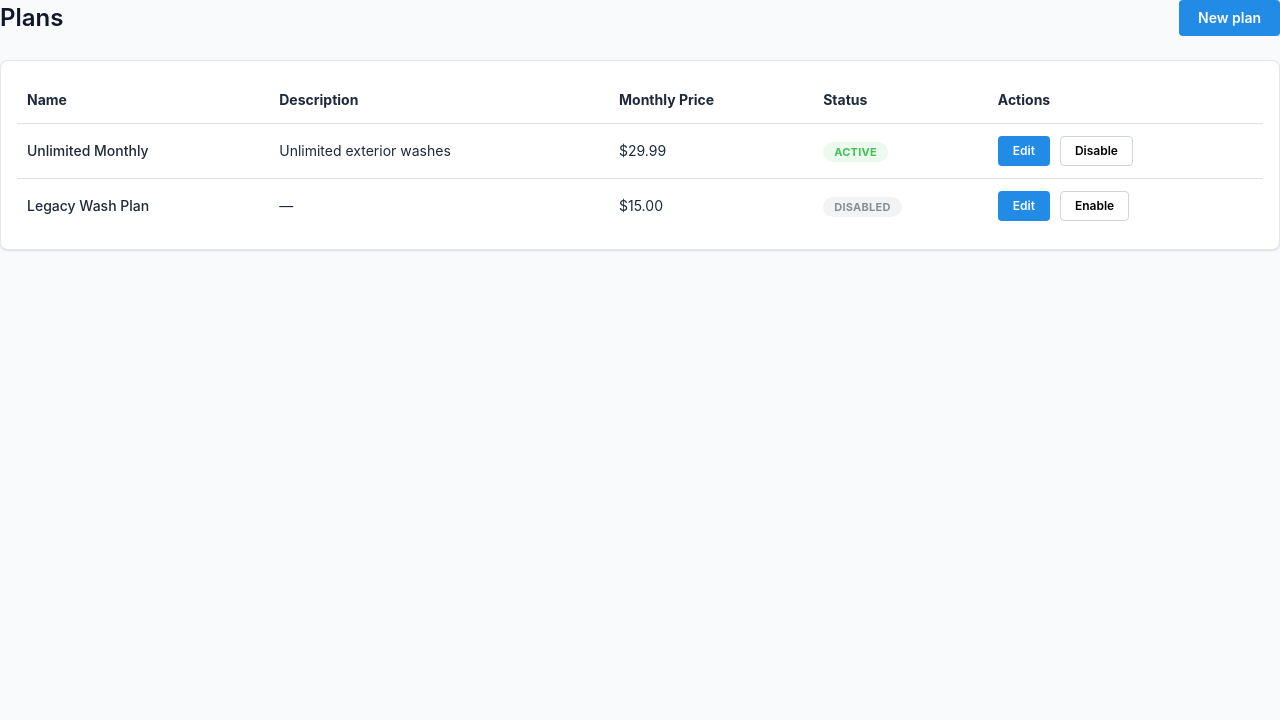
Test: PlansEditor › editing a plan › opens the form pre-filled with the plan, showing the price in dollars
Expected: the text "Unlimited Monthly" is shown, x1=17 y1=123 x2=269 y2=178
Click the button with aria-label "Edit Unlimited Monthly": (1024, 151) x1=998 y1=136 x2=1050 y2=166
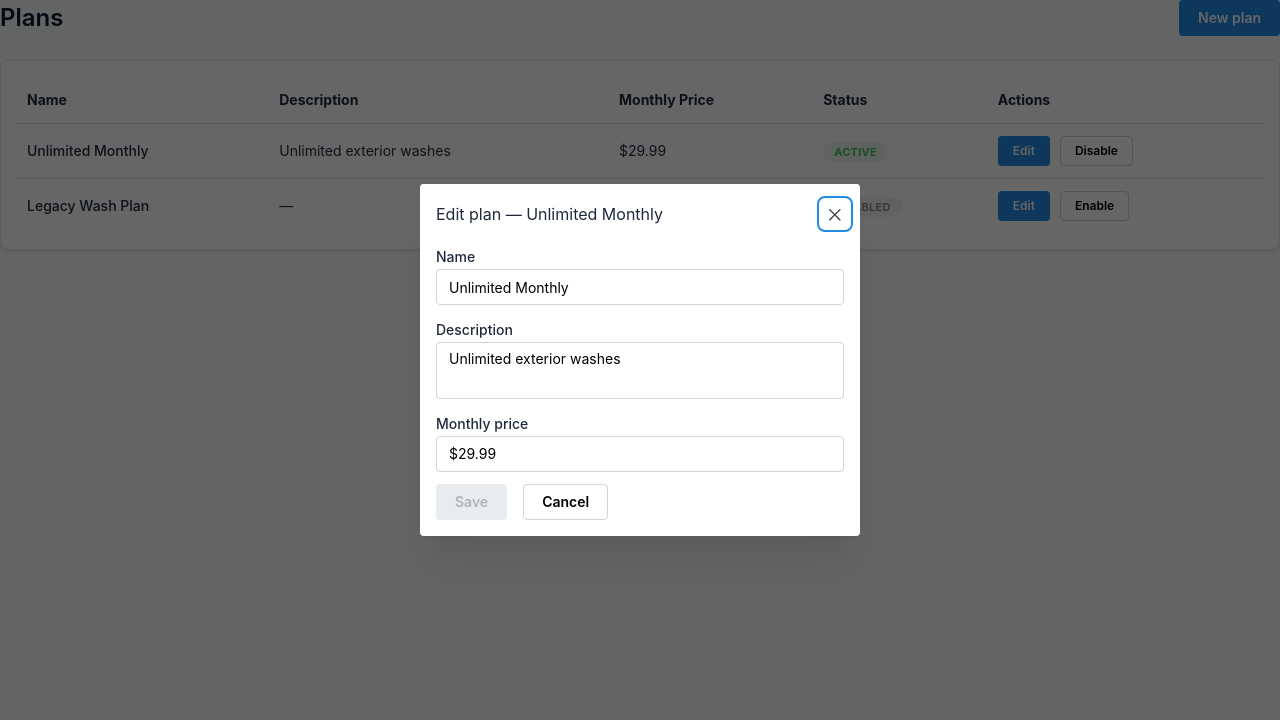
Expected: the field labelled "Name" holds "Unlimited Monthly", x1=436 y1=269 x2=844 y2=305
Expected: the text box labelled "Description" holds "Unlimited exterior washes", x1=436 y1=342 x2=844 y2=399
Expected: the field labelled "Monthly price" holds "$29.99", x1=436 y1=436 x2=844 y2=472
